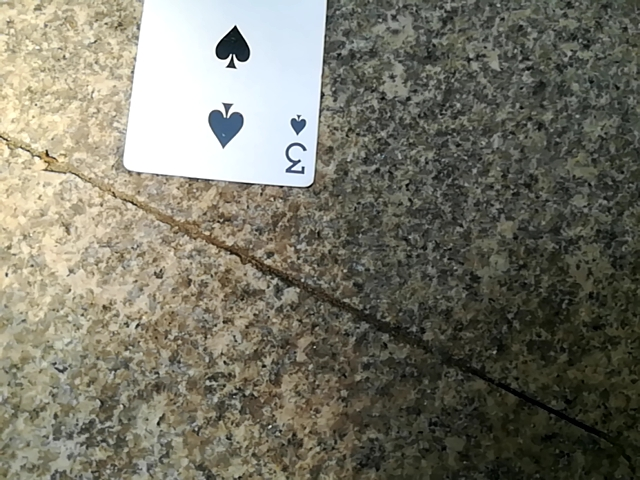ht 3: (115, 0, 320, 192)
